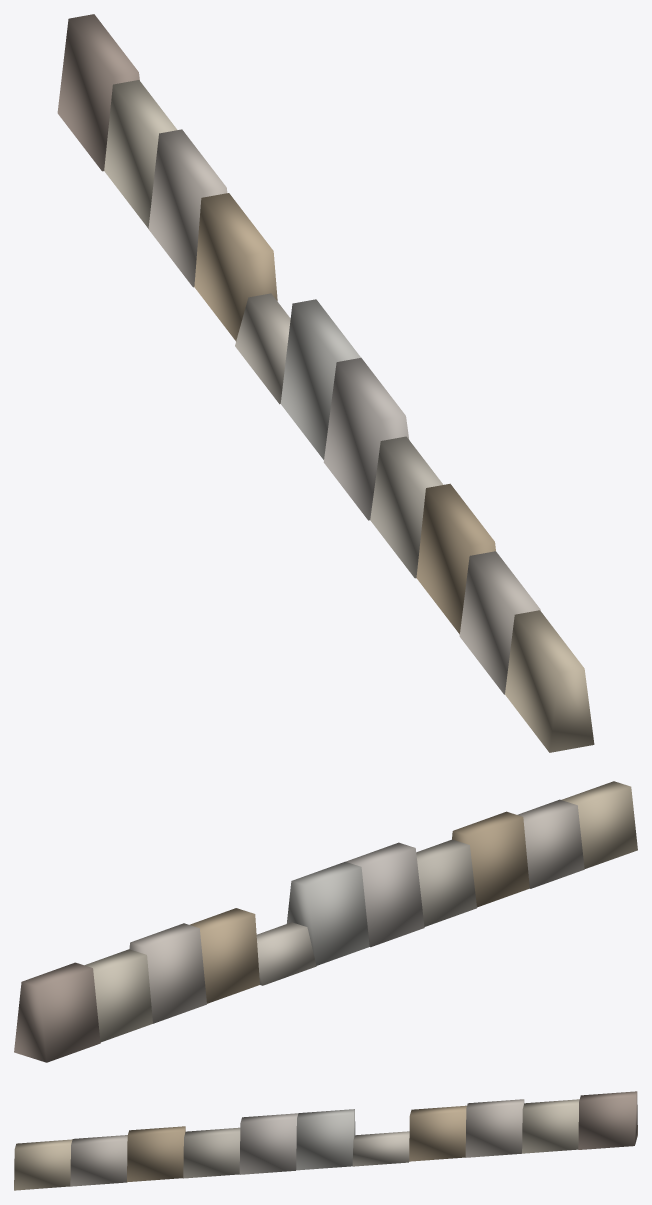
Rendered from farm_4_33_collision.glb.
3 views of the same model, one above another, from view 1: azimuth 30°, elevation 25°; view 2: azimuth 150°, elevation 25°; view 3: azimuth 270°, elevation 25° (orthographic). The views are drawn at different scales.
Visible parts, largest first — view 1: geometry_0; view 2: geometry_0; view 3: geometry_0.
Boxes of the visible parts, x1,y1,x2,y2 form: geometry_0: (57, 14, 594, 752); geometry_0: (14, 781, 637, 1062); geometry_0: (14, 1091, 637, 1190).
Bounding box in the file's own units: 2.72 × 3.68 × 16.92.
